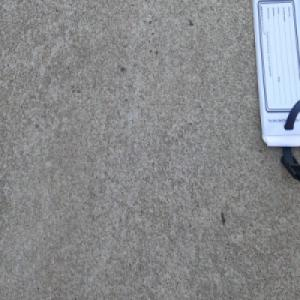LuggageTag: (248, 0, 300, 185)
